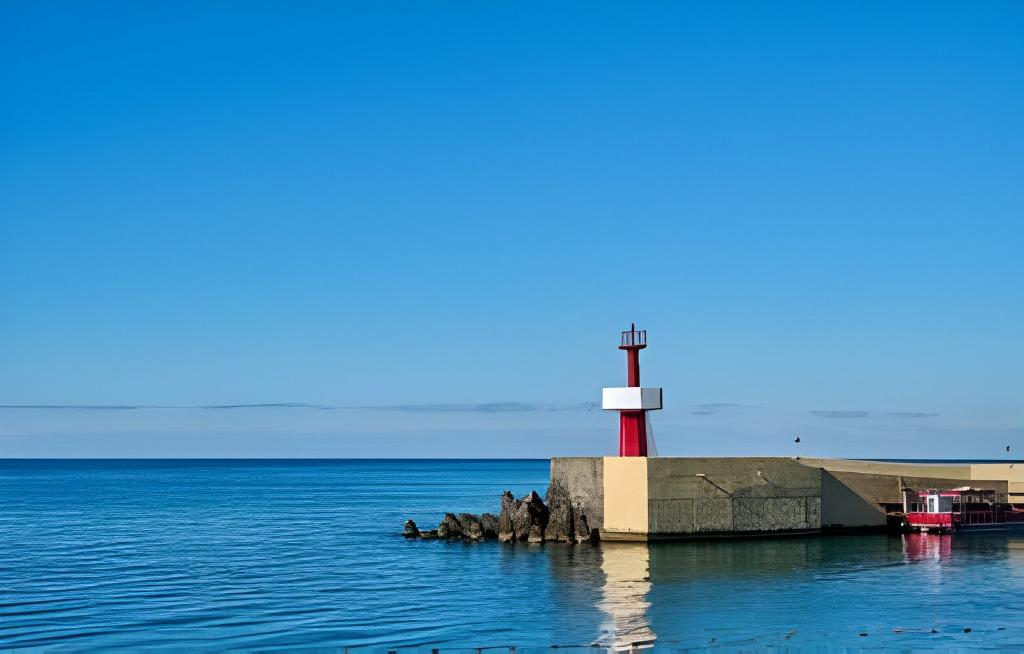PassengerShip: (880, 480, 1024, 536)
